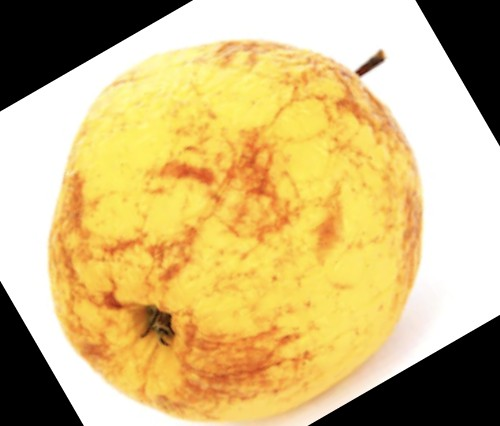rotten_apple: (45, 41, 425, 424)
